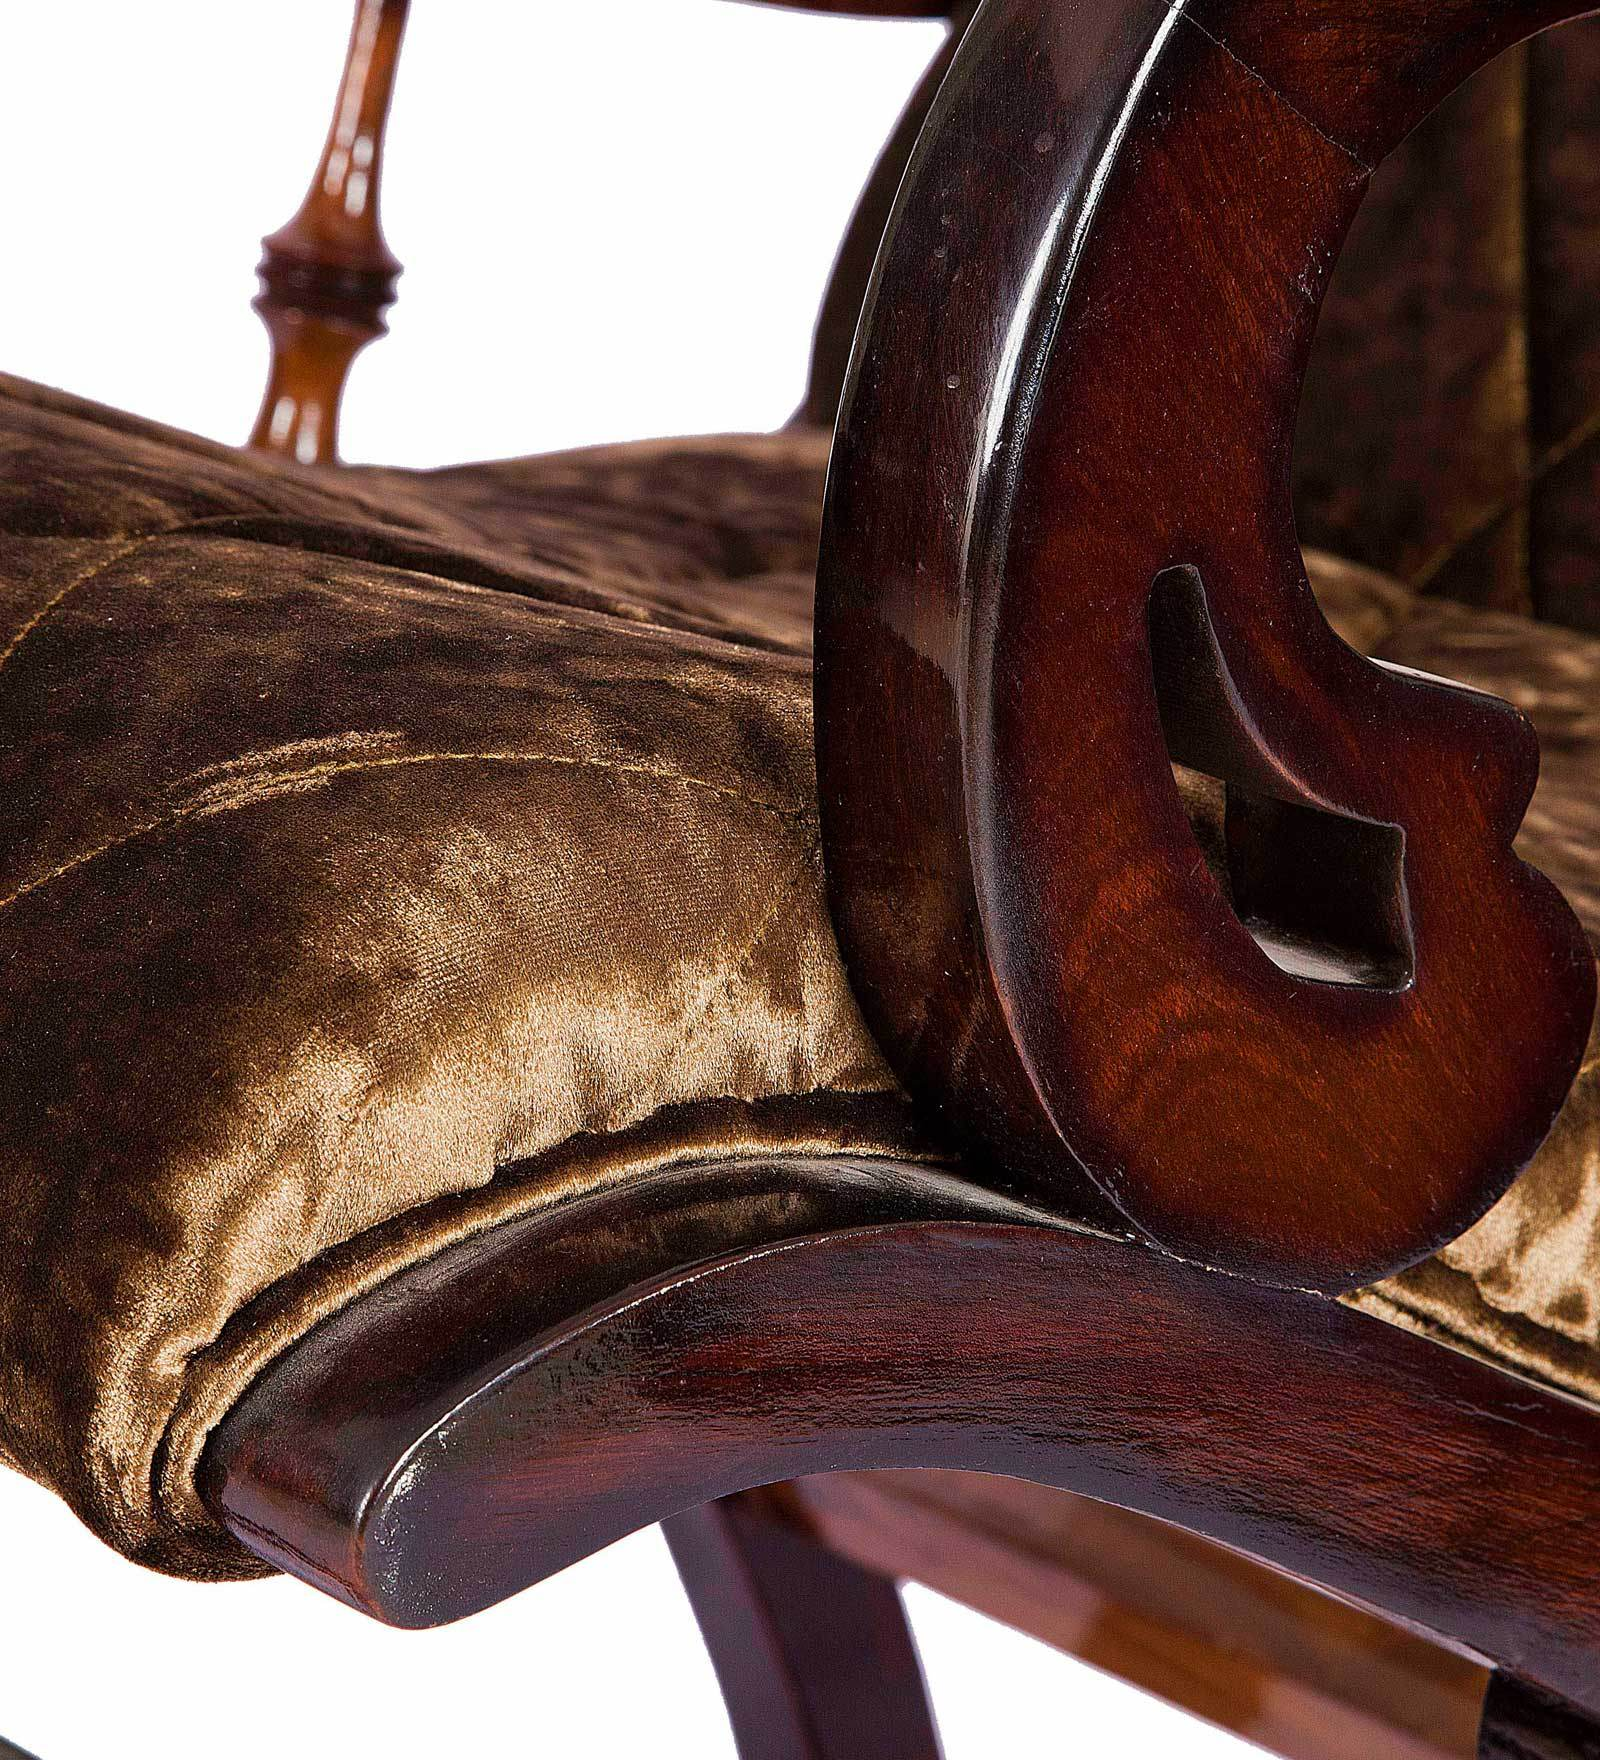Rocking Chair in Dark Brown Colour by Karigar: (20, 25, 1530, 1726)
